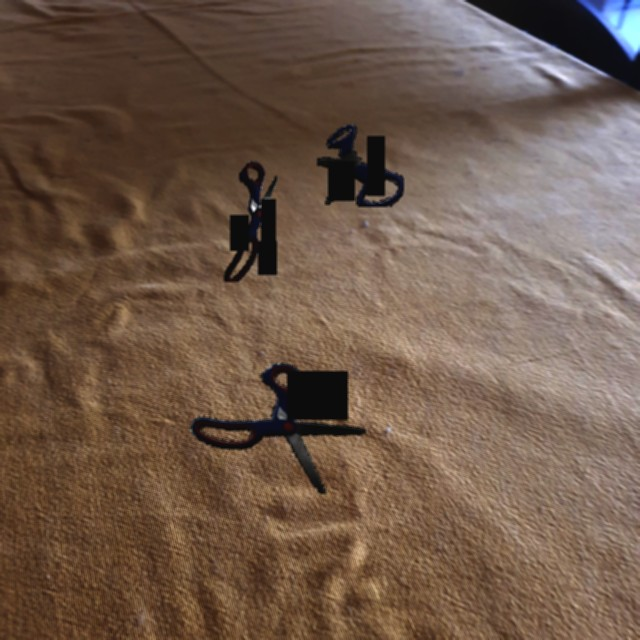scissors: (189, 363, 366, 494), (317, 124, 404, 207), (224, 161, 277, 282)
